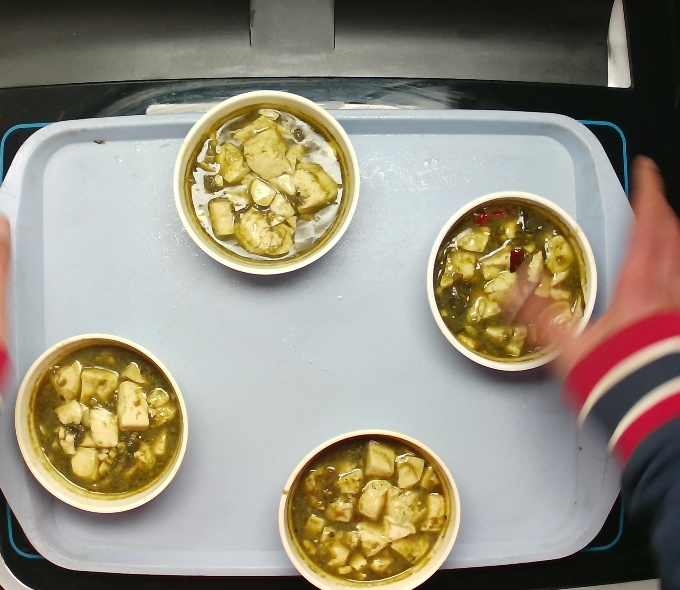wcq-SuanCaiDouFu: (178, 90, 355, 269), (428, 192, 598, 368), (16, 333, 186, 508), (283, 431, 459, 590)
